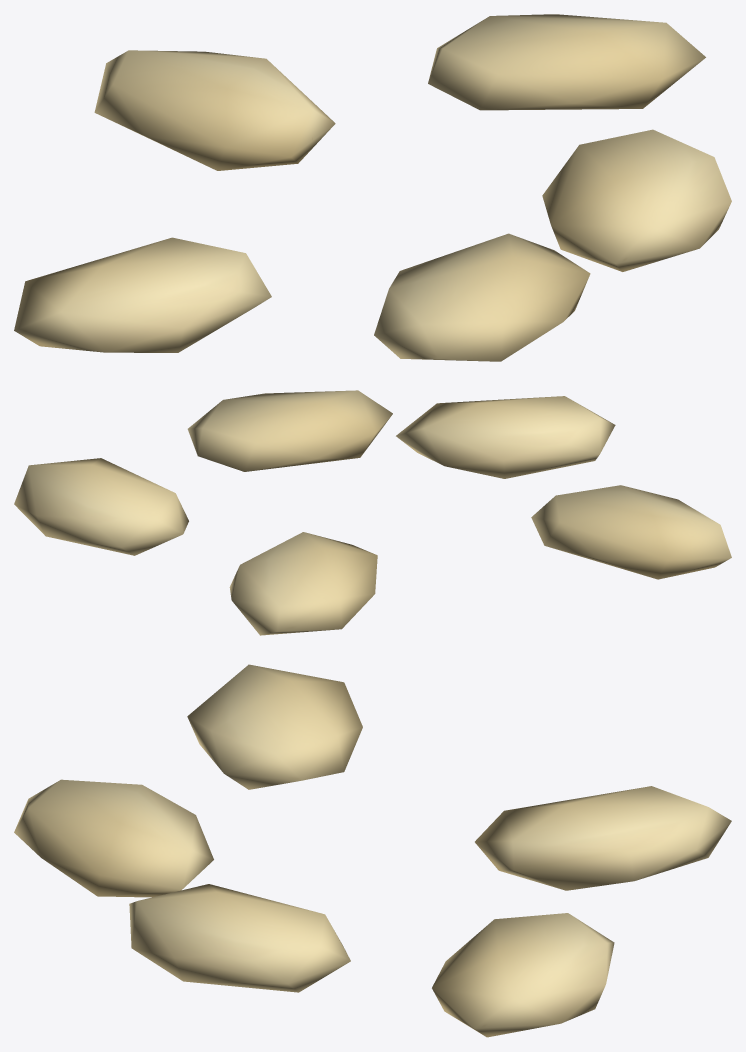
The model's file is NP_Eggplant_Seed_LOD1.fbx.
The picture shows the model from 3 angles, top to bottom: view 1: azimuth 30°, elevation 25°; view 2: azimuth 150°, elevation 25°; view 3: azimuth 270°, elevation 25°; orthographic projection. The views are drawn at different scales.
Visible parts, largest first — view 1: NP_Eggplant_Seed; view 2: NP_Eggplant_Seed; view 3: NP_Eggplant_Seed.
Boxes of the visible parts, x1,y1,x2,y2 form: NP_Eggplant_Seed: (14, 14, 731, 361); NP_Eggplant_Seed: (14, 390, 731, 635); NP_Eggplant_Seed: (14, 664, 731, 1037).
Bounding box in the file's own units: 14.38 × 1.19 × 12.24.
